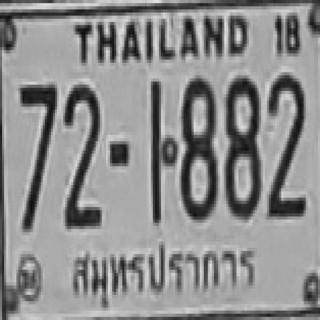N02: (62, 83, 102, 229), (266, 71, 305, 215)
N07: (18, 81, 57, 231)
N08: (180, 76, 219, 220), (224, 76, 262, 220)
P57: (71, 237, 259, 305)
